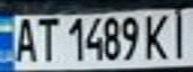1: (63, 15, 84, 62)
4: (84, 15, 106, 62)
8: (103, 14, 124, 62)
9: (118, 12, 145, 62)
A: (9, 15, 39, 64)
I: (163, 10, 193, 60)
K: (139, 11, 175, 61)
T: (33, 15, 60, 63)
